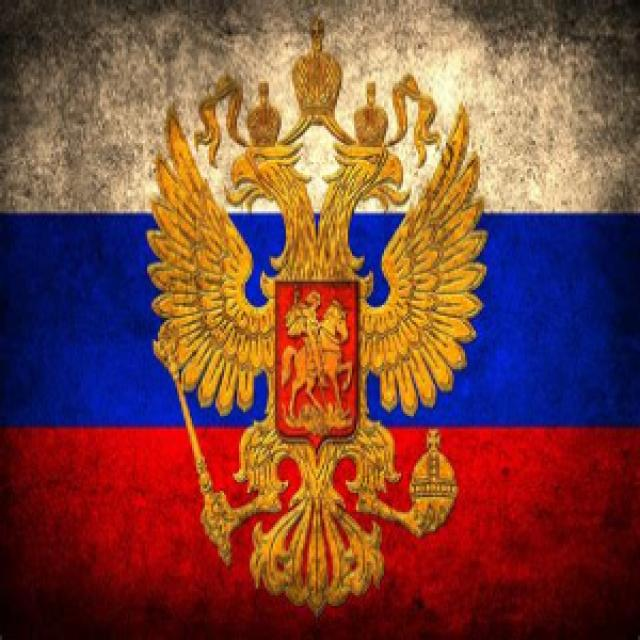russia: (6, 3, 640, 640)
